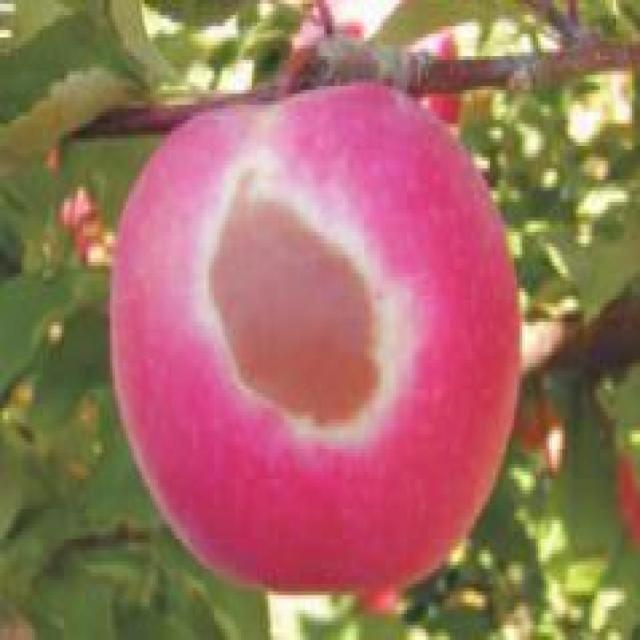Sunscald Fruit: (132, 105, 273, 299)
